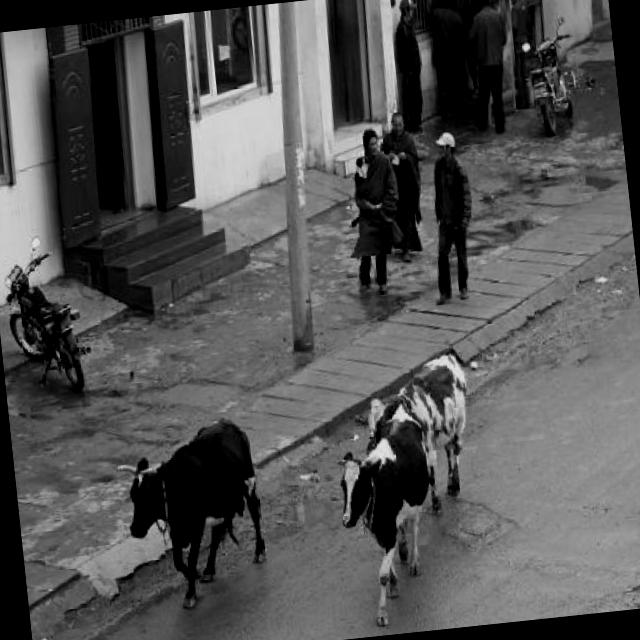Person: (337, 126, 408, 292), (414, 126, 480, 304), (374, 107, 430, 263), (452, 0, 515, 135), (421, 0, 475, 120), (389, 0, 428, 132), (502, 0, 537, 107)
